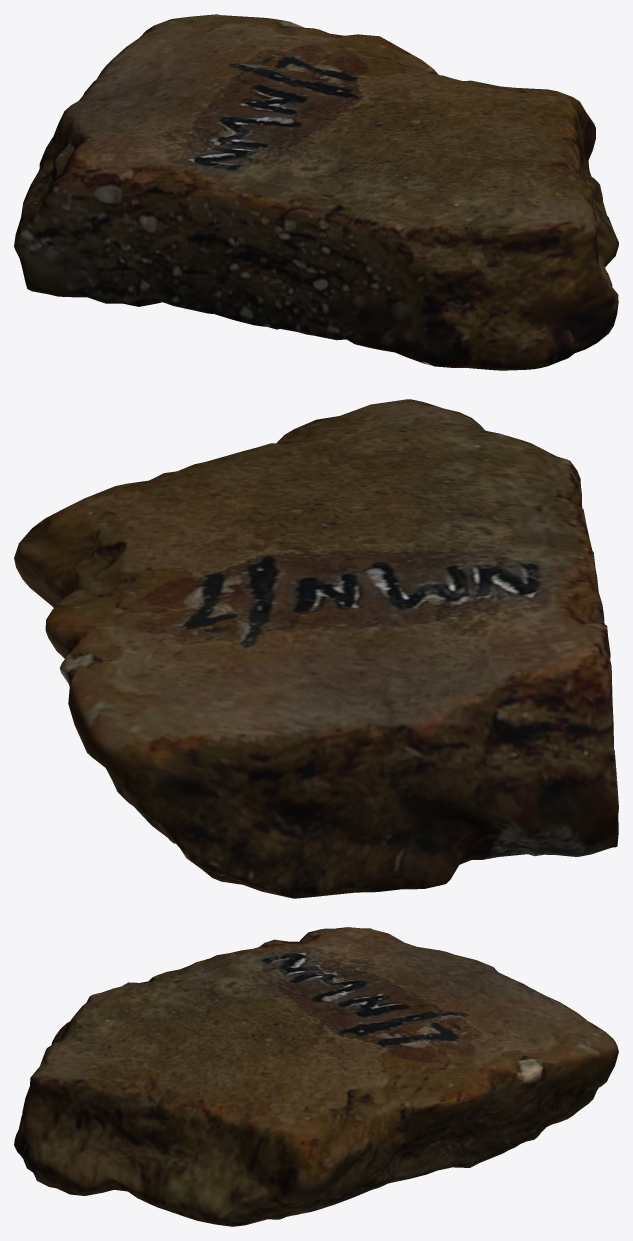
The model's file is nmn.glb.
3 views of the same model, one above another, from view 1: azimuth 30°, elevation 25°; view 2: azimuth 150°, elevation 25°; view 3: azimuth 270°, elevation 25° (orthographic). The views are drawn at different scales.
Bounding box in the file's own units: 0.0415 × 0.0117 × 0.0471.
1 material, 1 textured.
